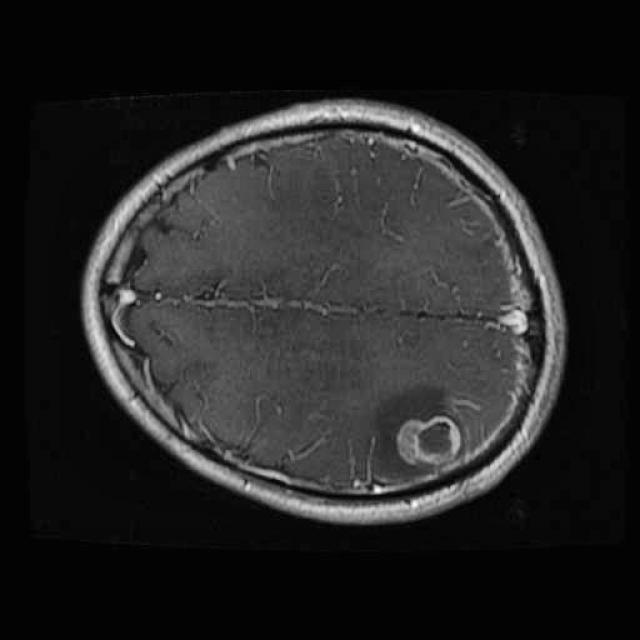Tumor: (385, 400, 475, 488)
